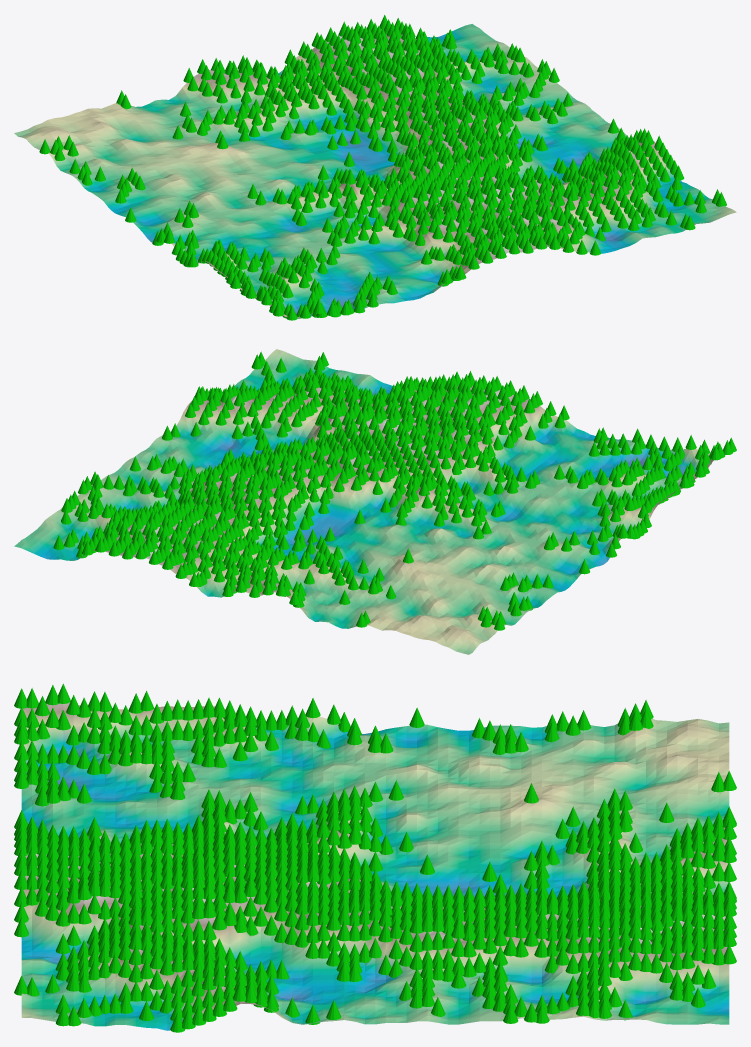
Rendered from 005186_with_tree.glb.
The picture shows the model from 3 angles, top to bottom: view 1: azimuth 30°, elevation 25°; view 2: azimuth 150°, elevation 25°; view 3: azimuth 270°, elevation 25°; orthographic projection. The views are drawn at different scales.
Visible parts, largest first — view 1: trees, terrain; view 2: trees, terrain; view 3: trees, terrain.
Part boxes in pixels (<box>): trees: <box>39,15,726,320</box>; terrain: <box>14,24,736,318</box>; trees: <box>53,351,736,630</box>; terrain: <box>14,349,713,654</box>; trees: <box>14,683,736,1032</box>; terrain: <box>21,702,729,1030</box>.
Size of the model in its own units: 0.0187 by 0.00168 by 0.0187.
